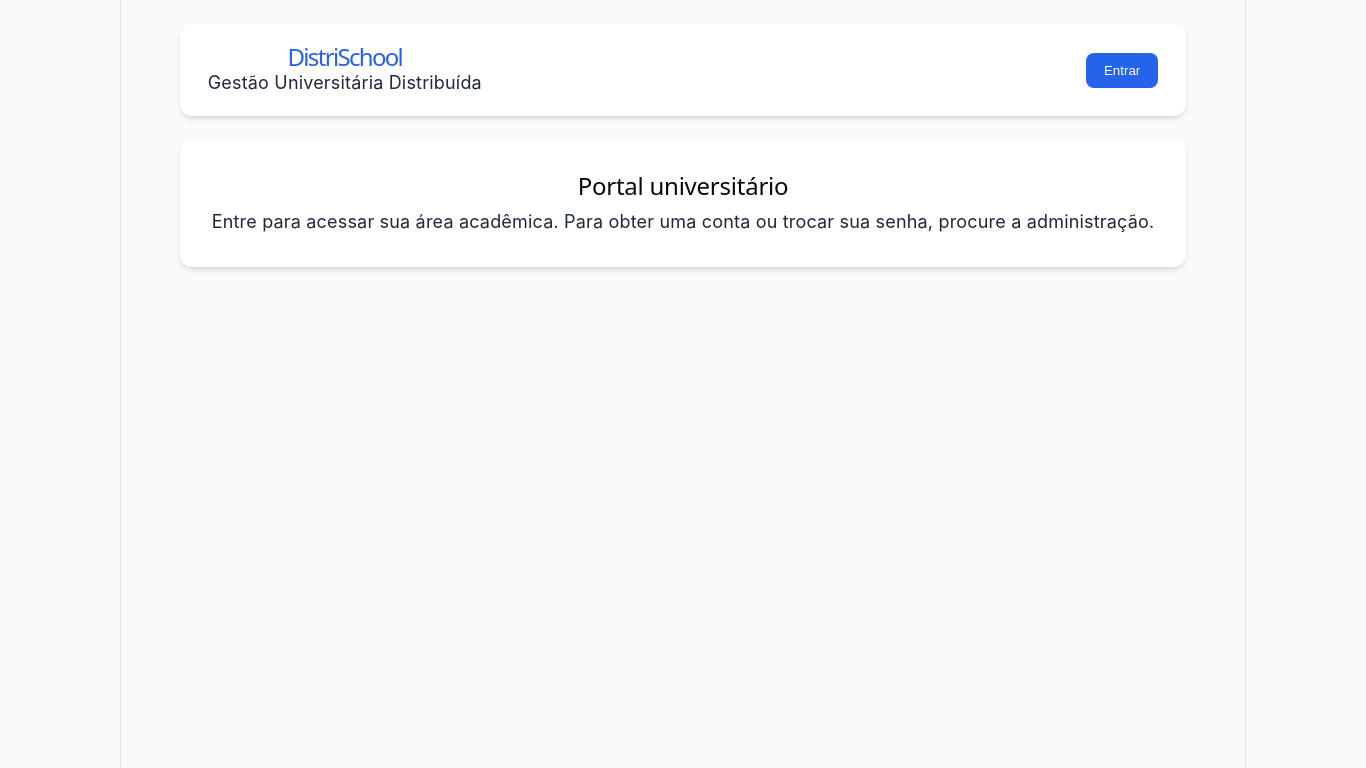
Autenticação global › abre modal pelo botão no topo direito e permite fechar com Escape
Click the button "Entrar" at (1122, 70), box [1086,53,1158,88]
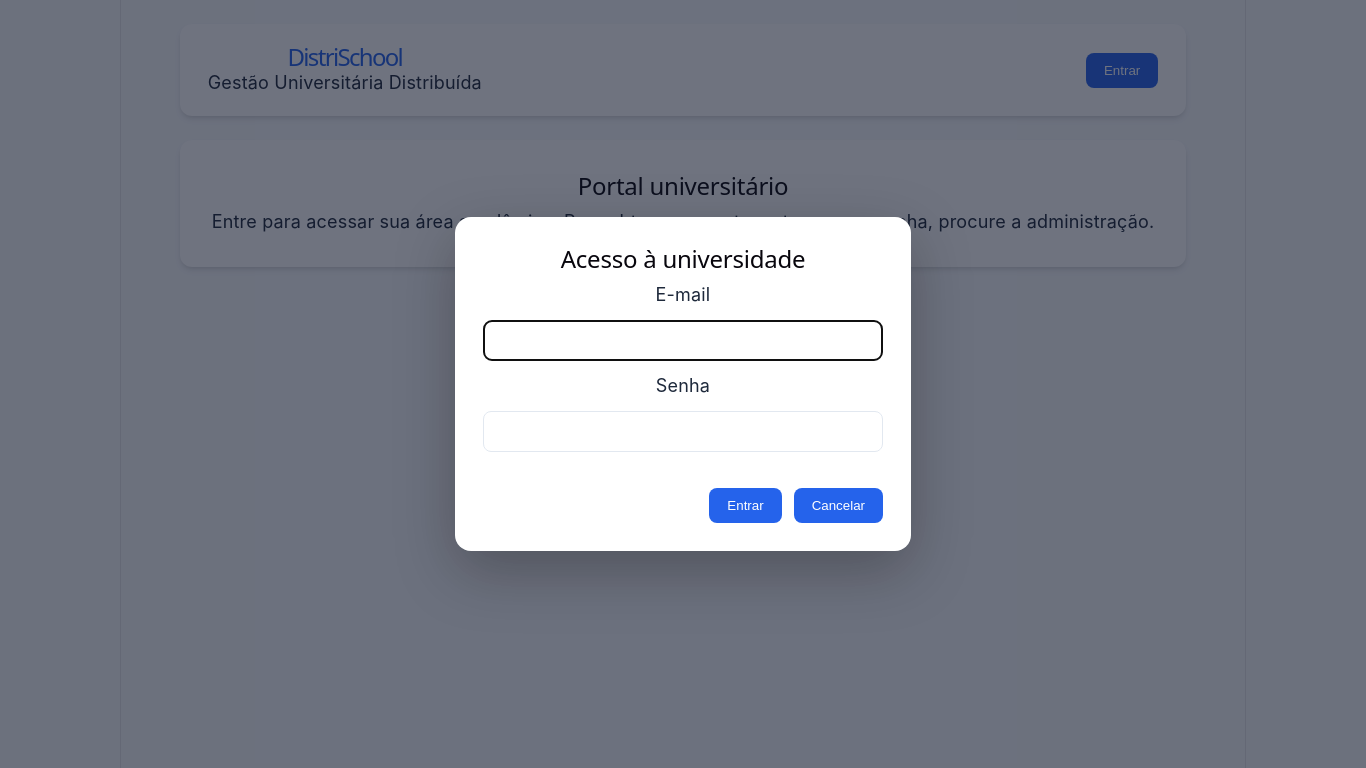
Press Escape
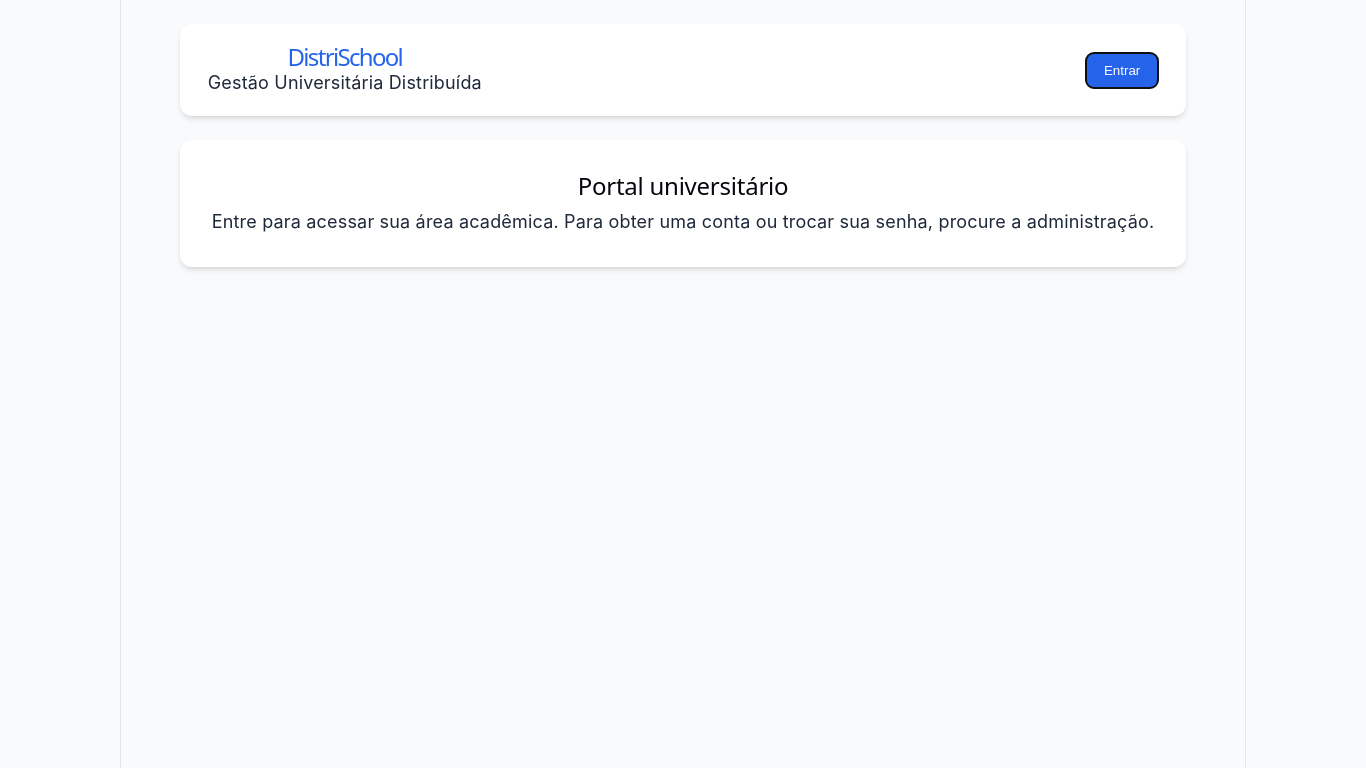
Check: the dialog is gone
